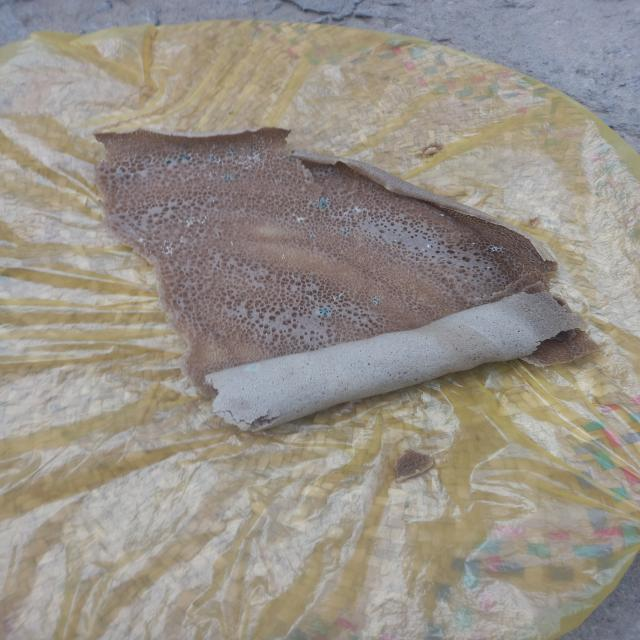injera_mold: (149, 240, 176, 255), (238, 152, 262, 168), (178, 217, 210, 226), (343, 205, 368, 215), (314, 195, 330, 209), (483, 244, 506, 253), (316, 306, 333, 316), (214, 156, 234, 164), (331, 292, 346, 300), (179, 154, 193, 162), (286, 153, 297, 163), (222, 173, 236, 180), (372, 297, 384, 304), (247, 364, 259, 371), (209, 144, 218, 152), (163, 157, 173, 164), (206, 153, 216, 160), (296, 216, 306, 222), (325, 167, 336, 172), (229, 148, 238, 154), (117, 168, 124, 175), (342, 229, 350, 235), (138, 236, 146, 242), (124, 175, 133, 180), (182, 145, 190, 150), (250, 146, 259, 150), (274, 178, 282, 182), (310, 233, 316, 238), (426, 244, 432, 248), (485, 266, 492, 269), (472, 242, 475, 245), (440, 214, 444, 216), (292, 214, 296, 216)
